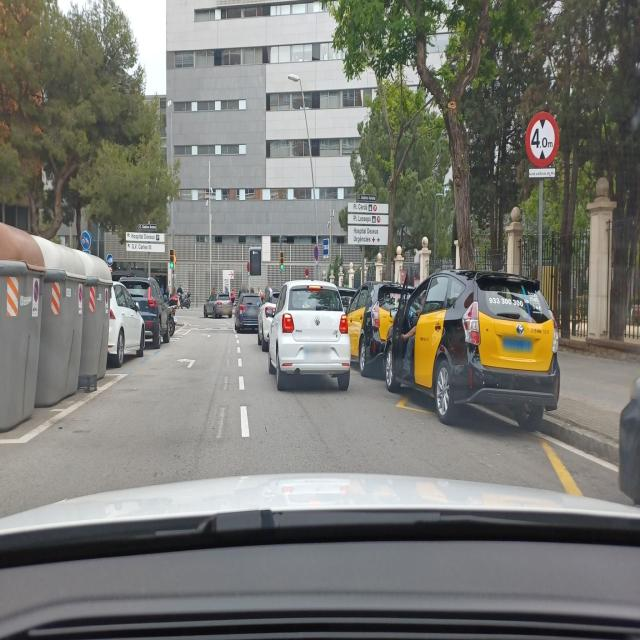forb_stopping: (314, 246, 319, 261)
